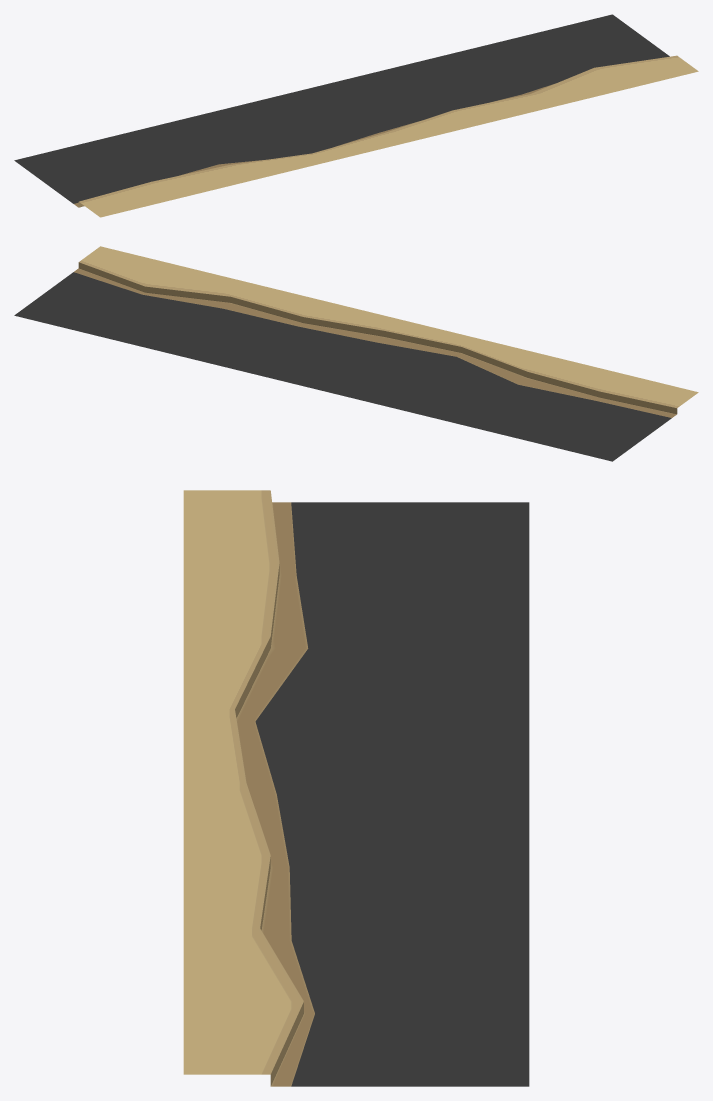
The model's file is SM_Env_Road_Asphalt_Long_01.gltf.
The picture shows the model from 3 angles, top to bottom: view 1: azimuth 30°, elevation 25°; view 2: azimuth 150°, elevation 25°; view 3: azimuth 270°, elevation 25°; orthographic projection. The views are drawn at different scales.
Visible parts, largest first — view 1: SM_Env_Road_Asphalt_Long_01; view 2: SM_Env_Road_Asphalt_Long_01; view 3: SM_Env_Road_Asphalt_Long_01.
Boxes of the visible parts, x1,y1,x2,y2 form: SM_Env_Road_Asphalt_Long_01: (14,14,698,217); SM_Env_Road_Asphalt_Long_01: (14,246,698,461); SM_Env_Road_Asphalt_Long_01: (183,490,529,1086).
Bounding box in the file's own units: 20 × 0.1948 × 5.
1 material, 1 textured.
